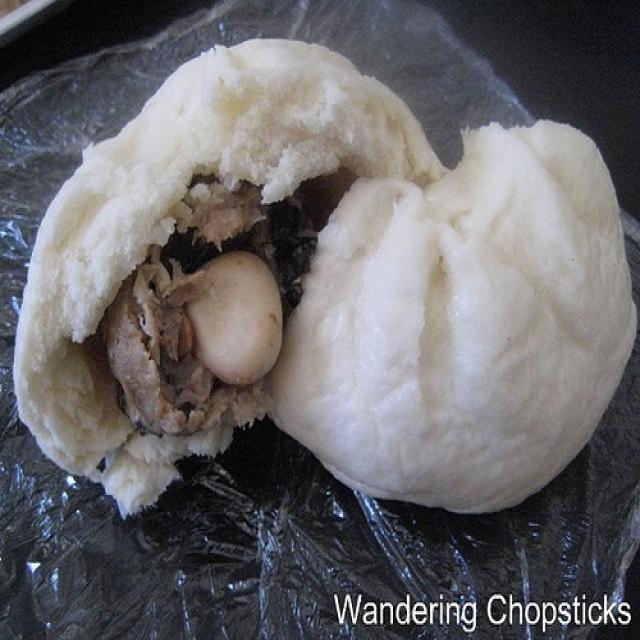带馅早点: (19, 31, 630, 575)
